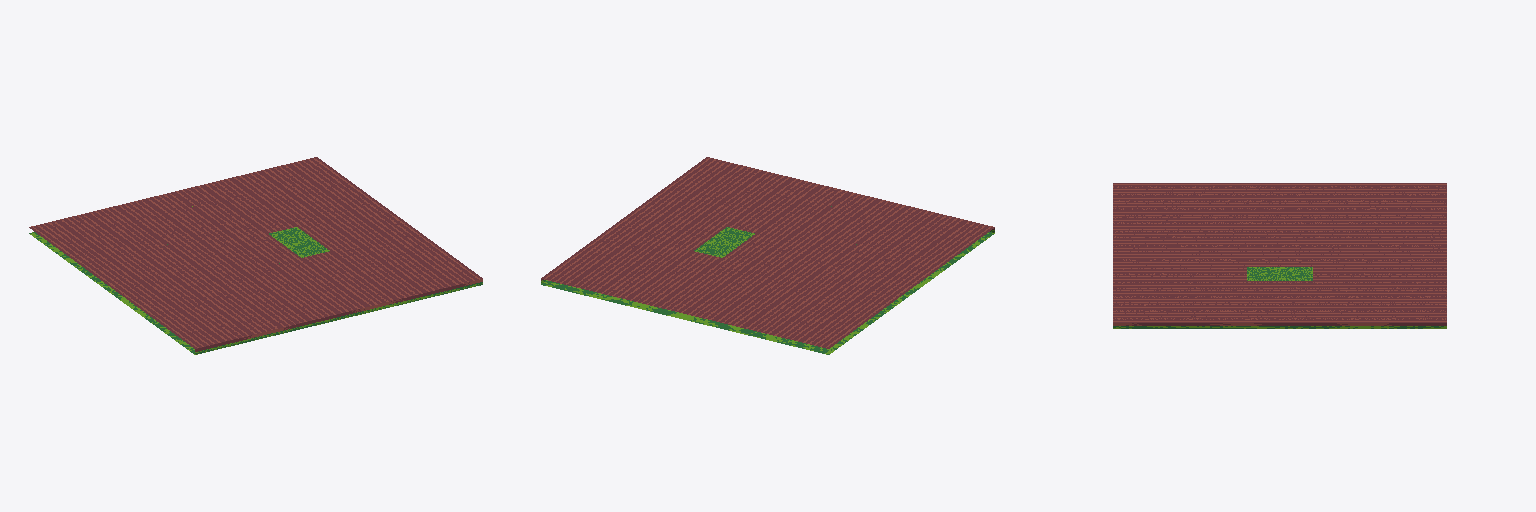
3 renders of one model, left to right at view 1: azimuth 30°, elevation 25°; view 2: azimuth 150°, elevation 25°; view 3: azimuth 270°, elevation 25°, orthographic.
Visible parts, largest first — view 1: Cube; view 2: Cube; view 3: Cube.
Boxes of the visible parts, x1,y1,x2,y2 form: Cube: [29, 157, 482, 354]; Cube: [541, 157, 994, 354]; Cube: [1113, 183, 1446, 328].
Size of the model in its own units: 100 by 2 by 100.
Materials: 1 (1 with a texture image).